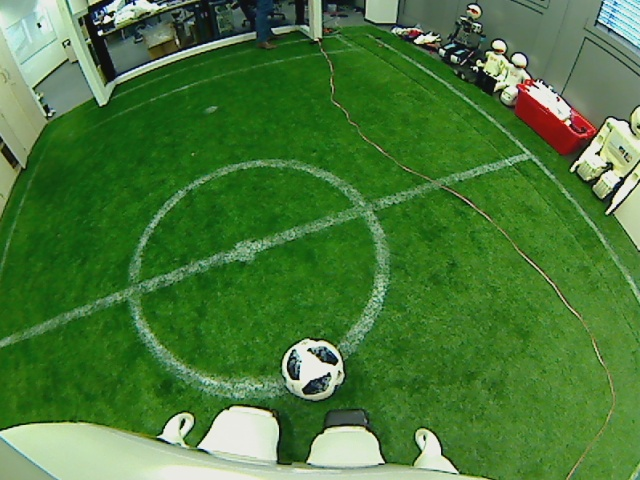ball: (279, 336, 346, 401)
